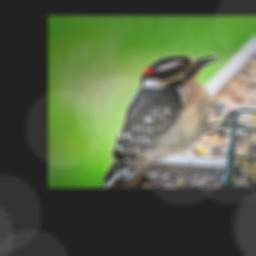Woodpecker: (101, 54, 245, 187)
